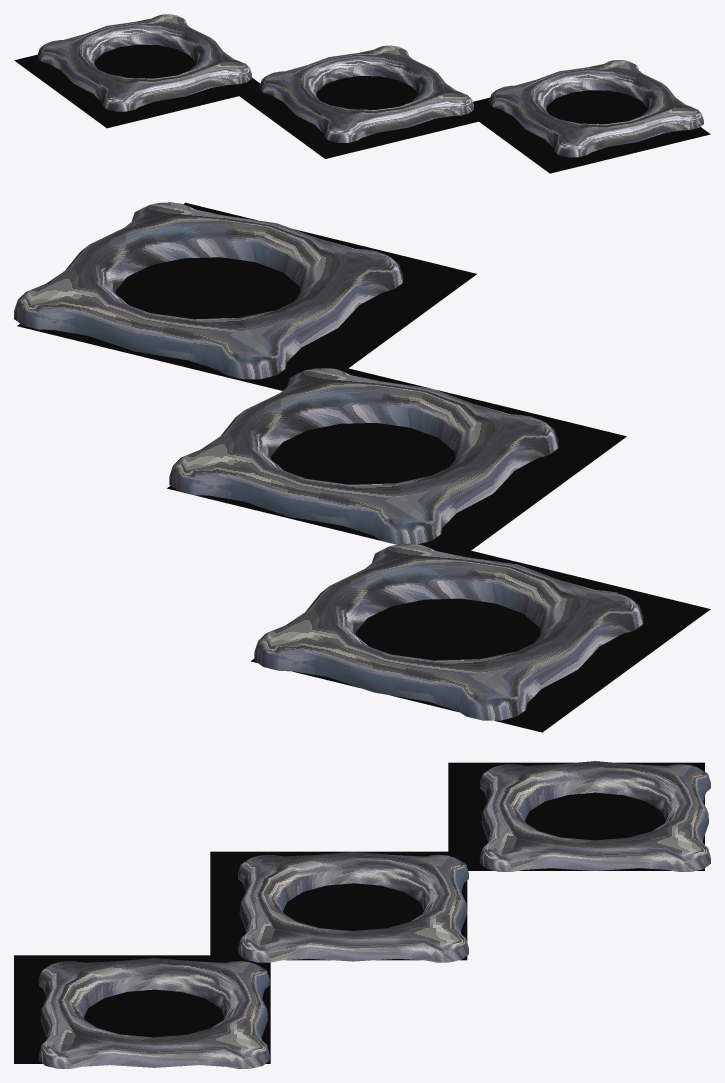
Rendered from Trafos.FBX.
3 views of the same model, one above another, from view 1: azimuth 30°, elevation 25°; view 2: azimuth 150°, elevation 25°; view 3: azimuth 270°, elevation 25° (orthographic). The views are drawn at different scales.
Parts seen in each view (by area): view 1: P_Trafo_Stone_MF, P_Trafo_Wood_MF, P_Trafo_Paper_MF, P_Trafo_Paper_Shadow, P_Trafo_Wood_Shadow, P_Trafo_Stone_Shadow; view 2: P_Trafo_Stone_MF, P_Trafo_Paper_MF, P_Trafo_Wood_MF, P_Trafo_Wood_Shadow, P_Trafo_Paper_Shadow, P_Trafo_Stone_Shadow; view 3: P_Trafo_Wood_MF, P_Trafo_Paper_MF, P_Trafo_Stone_MF, P_Trafo_Paper_Shadow, P_Trafo_Wood_Shadow, P_Trafo_Stone_Shadow.
Boxes of the visible parts, <box> form: P_Trafo_Stone_MF: <box>37,14,251,111</box>; P_Trafo_Wood_MF: <box>489,60,703,157</box>; P_Trafo_Paper_MF: <box>259,45,473,142</box>; P_Trafo_Paper_Shadow: <box>232,76,485,158</box>; P_Trafo_Wood_Shadow: <box>473,90,710,173</box>; P_Trafo_Stone_Shadow: <box>14,44,260,128</box>; P_Trafo_Stone_MF: <box>254,543,643,720</box>; P_Trafo_Paper_MF: <box>169,368,558,544</box>; P_Trafo_Wood_MF: <box>14,202,402,379</box>; P_Trafo_Wood_Shadow: <box>17,202,476,390</box>; P_Trafo_Paper_Shadow: <box>167,365,626,556</box>; P_Trafo_Stone_Shadow: <box>251,550,710,732</box>; P_Trafo_Wood_MF: <box>38,958,269,1068</box>; P_Trafo_Paper_MF: <box>238,851,468,962</box>; P_Trafo_Stone_MF: <box>479,761,710,871</box>; P_Trafo_Paper_Shadow: <box>210,851,467,960</box>; P_Trafo_Wood_Shadow: <box>14,955,270,1063</box>; P_Trafo_Stone_Shadow: <box>448,762,704,870</box>.
Size of the model in its own units: 15.51 by 0.504 by 14.87.
9 materials, 9 textured.
